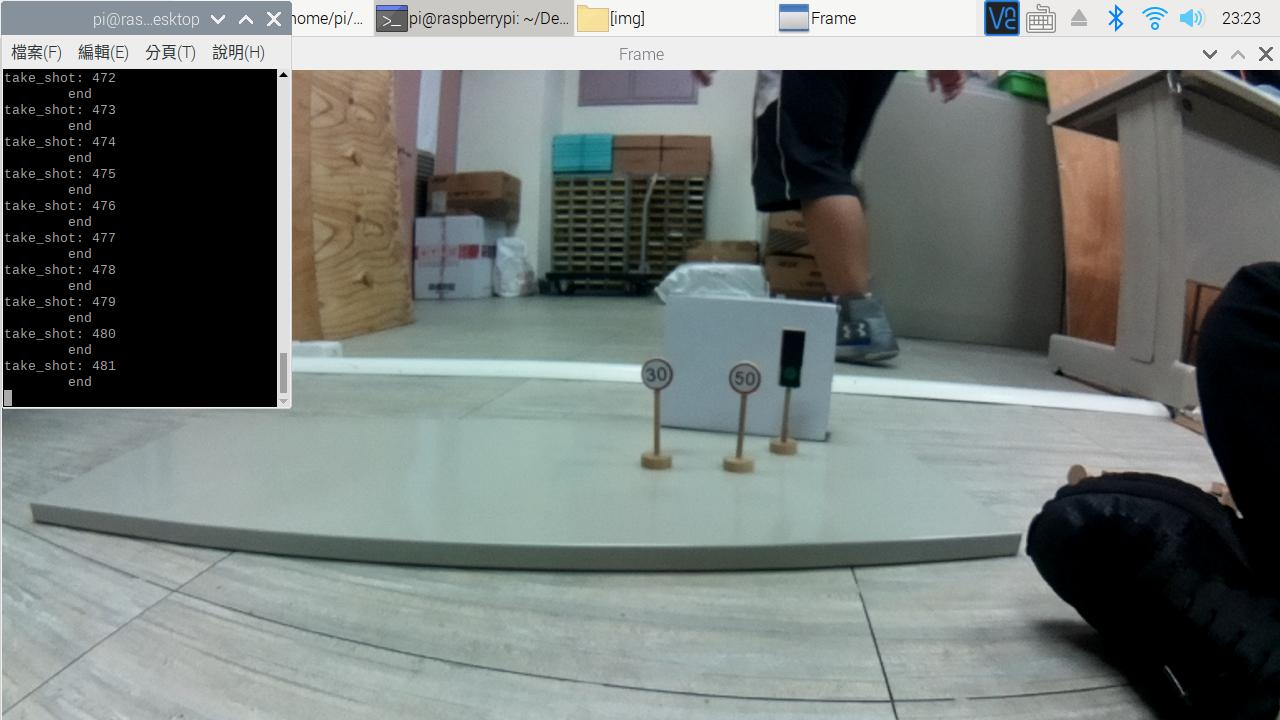Green: (777, 324, 809, 395)
Speed30: (633, 351, 681, 395)
Speed50: (725, 359, 769, 404)
